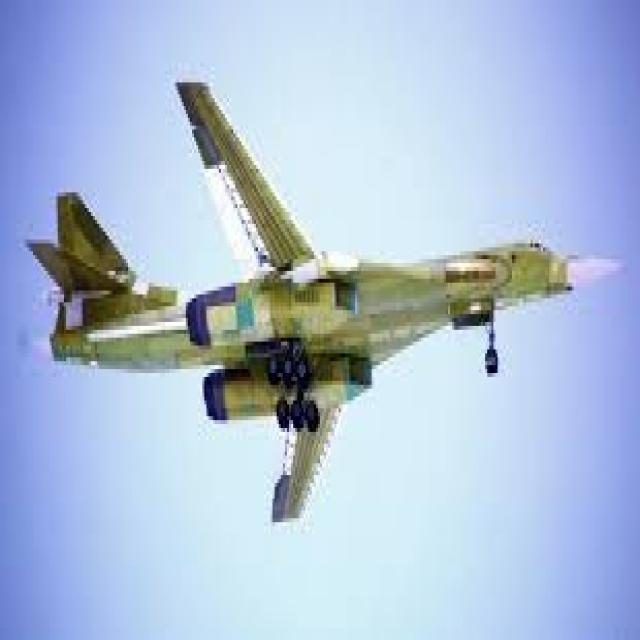Tu160: (34, 29, 640, 556)
